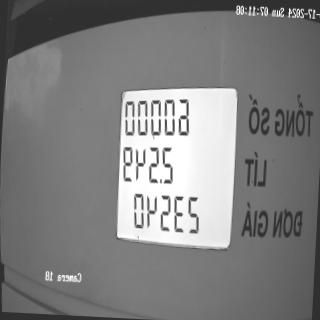screen: (110, 73, 243, 255)
